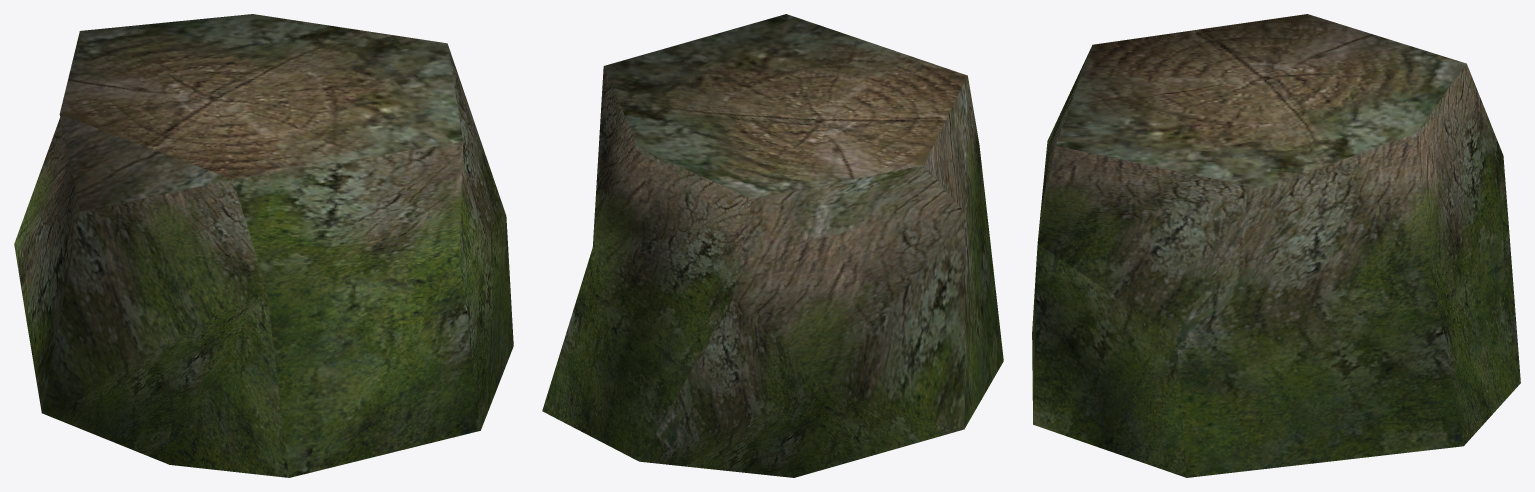
Rendered from Vegetation_Shugen0103_lod2.glb.
3 views of the same model, side by side, from view 1: azimuth 30°, elevation 25°; view 2: azimuth 150°, elevation 25°; view 3: azimuth 270°, elevation 25° (orthographic). The views are drawn at different scales.
Parts seen in each view (by area): view 1: common_shugen01_03_lod02; view 2: common_shugen01_03_lod02; view 3: common_shugen01_03_lod02.
Part boxes in pixels (x1,y1,x2,y2): common_shugen01_03_lod02: [14, 14, 513, 477]; common_shugen01_03_lod02: [542, 14, 1003, 477]; common_shugen01_03_lod02: [1032, 14, 1520, 477].
Size of the model in its own units: 4.15 by 2.65 by 4.24.
Materials: 1 (1 with a texture image).
